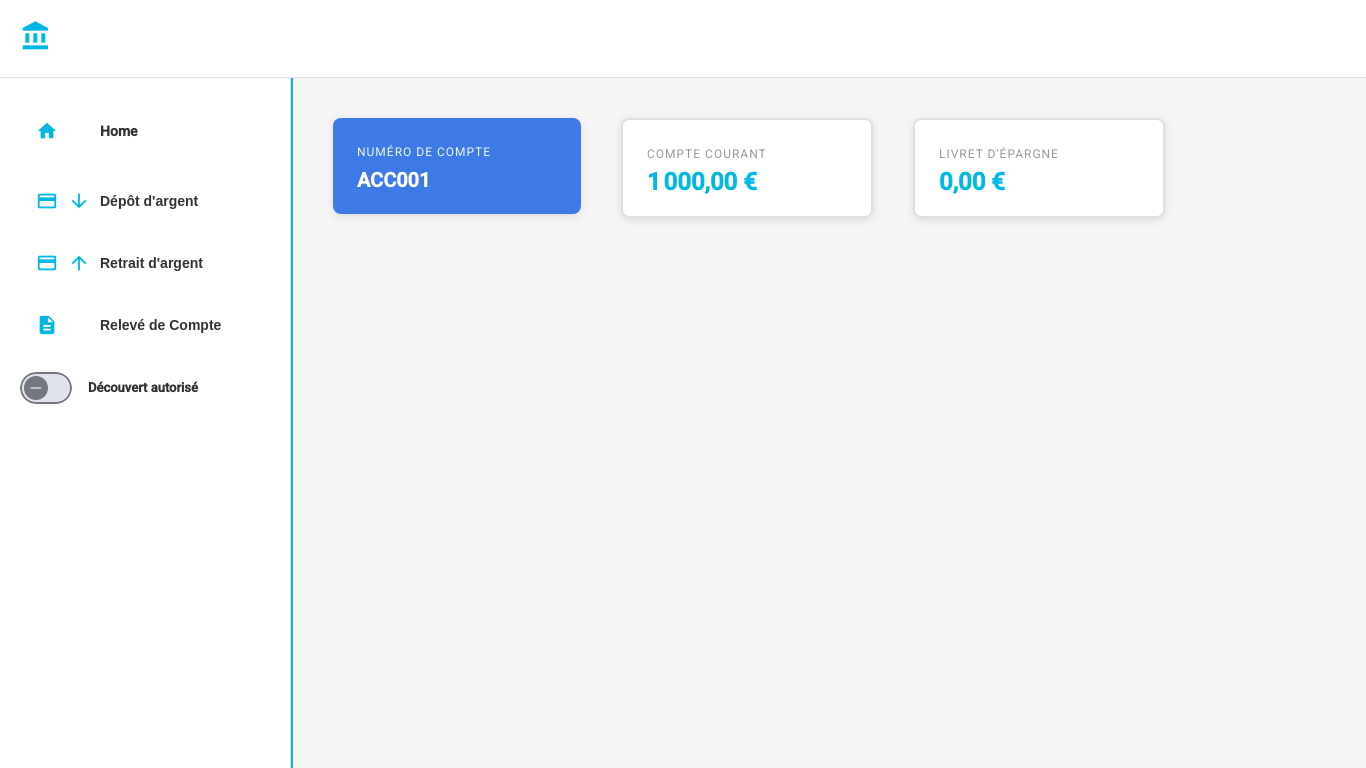
Test: Account dashboard flows › deposits money into the savings account
Click the button "Dépôt d'argent".
click(145, 201)  # box [20, 178, 270, 224]
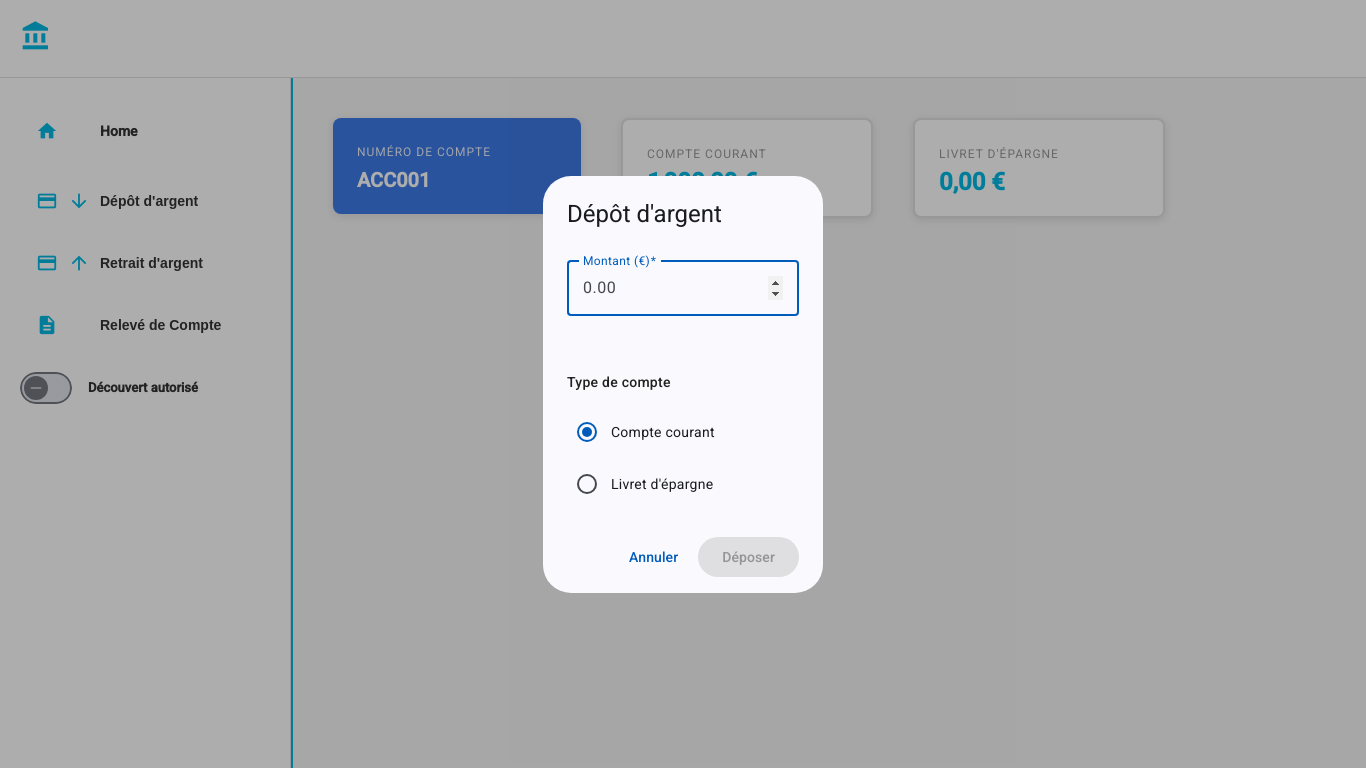
Now the dialog is shown, box [543, 176, 823, 593]
Click the button "Livret d'épargne".
click(645, 484)  # box [577, 474, 713, 494]
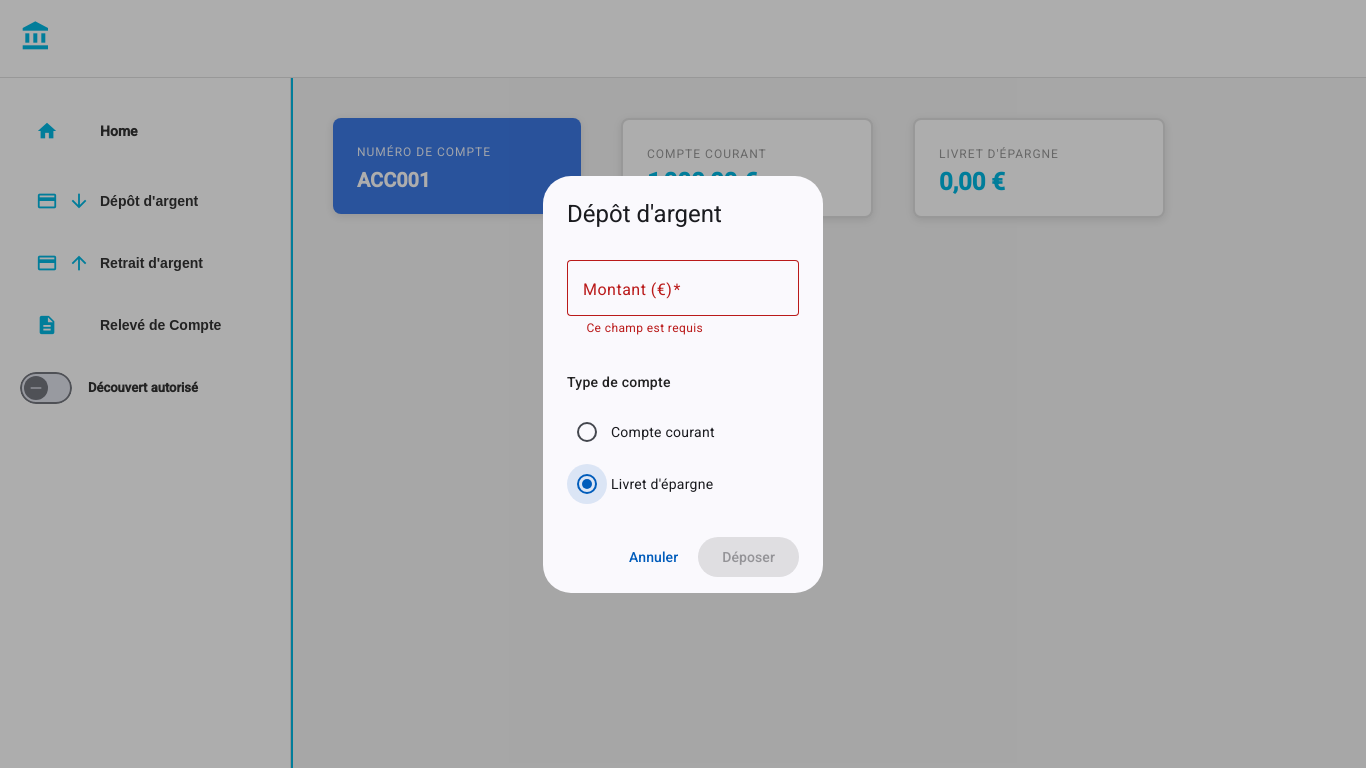
Type "500" into the number field labelled "Montant (€)".
click(683, 288); type("500")  # box [583, 276, 783, 300]
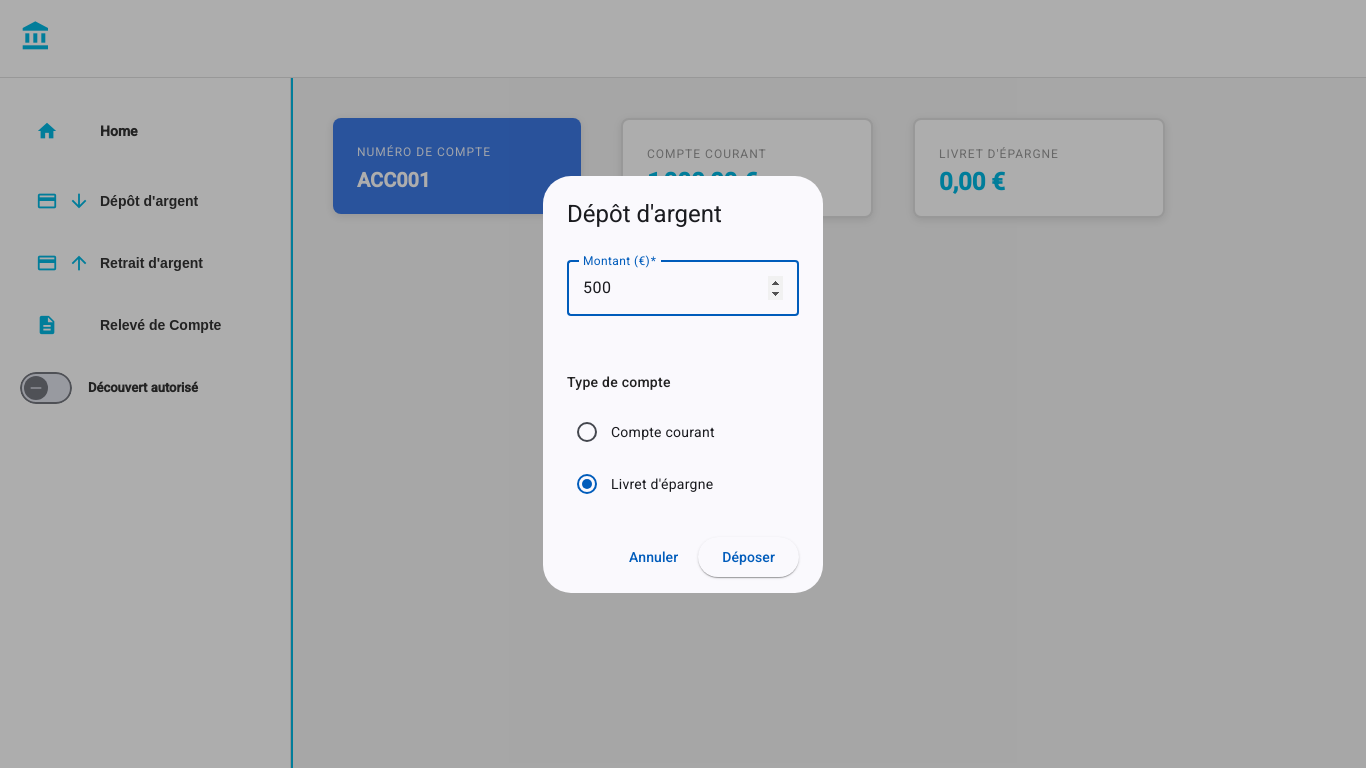
Click the button "Déposer".
click(749, 557)  # box [698, 537, 799, 577]
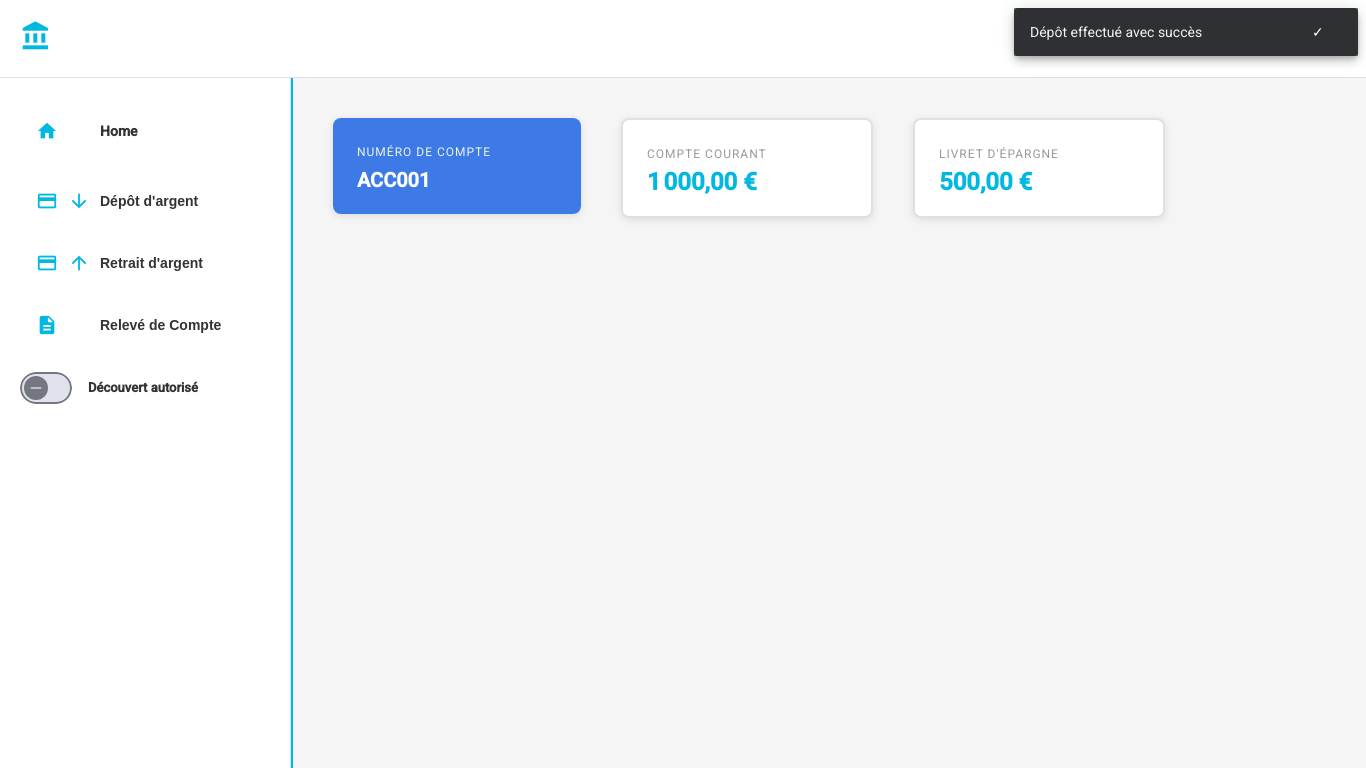
Now the text with class "info-value" shows "500", box [939, 168, 1032, 196]
